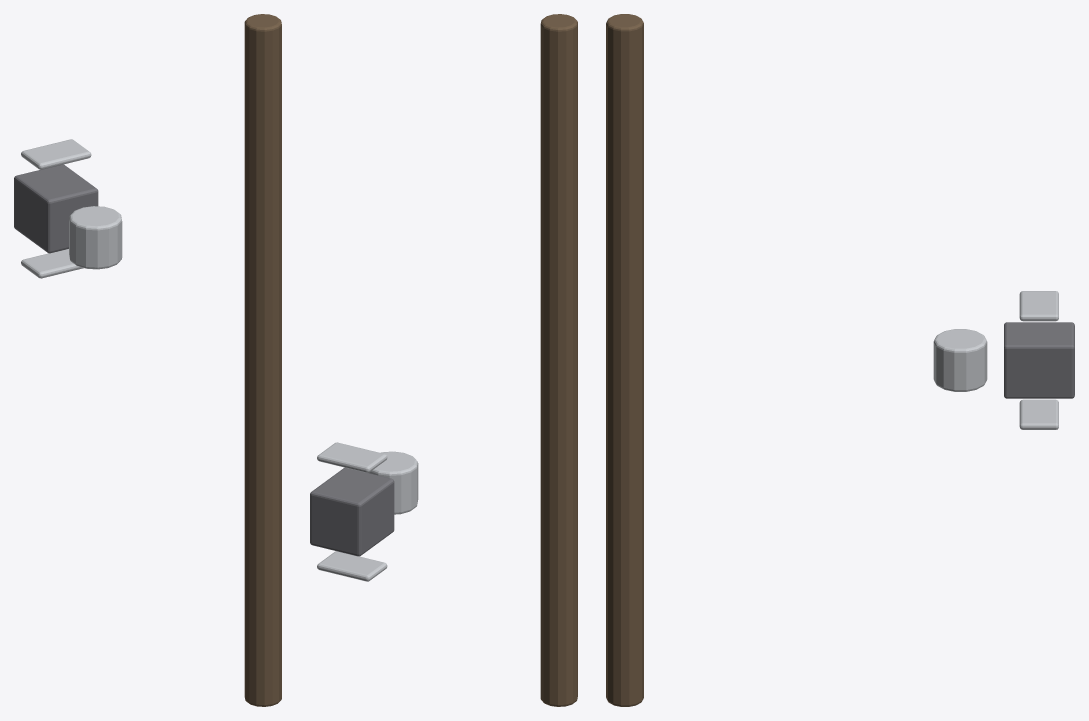
The model's file is hammer.glb.
3 renders of one model, left to right at view 1: azimuth 30°, elevation 25°; view 2: azimuth 150°, elevation 25°; view 3: azimuth 270°, elevation 25°, orthographic.
Visible parts, largest first — view 1: great_hammer; view 2: great_hammer; view 3: great_hammer.
Part boxes in pixels (x1=…): great_hammer: x1=14, y1=14, x2=281, y2=706; great_hammer: x1=310, y1=14, x2=577, y2=706; great_hammer: x1=606, y1=14, x2=1074, y2=706.
Bounding box in the file's own units: 0.0775 × 0.95 × 0.594.
